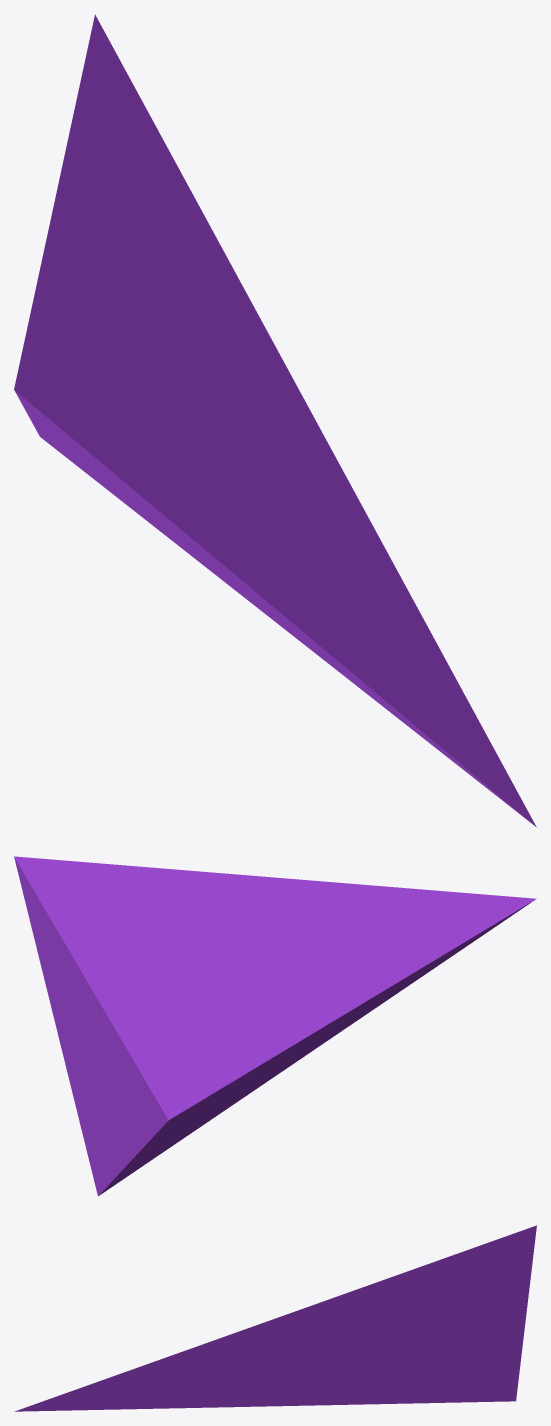
Rendered from Window_3_15_chunks.fbx.
3 renders of one model, top to bottom at view 1: azimuth 30°, elevation 25°; view 2: azimuth 150°, elevation 25°; view 3: azimuth 270°, elevation 25°, orthographic. The views are drawn at different scales.
Visible parts, largest first — view 1: Window_3_15_0; view 2: Window_3_15_0; view 3: Window_3_15_0.
Part boxes in pixels (left/top/right/bottom): Window_3_15_0: left=14, top=14, right=536, bottom=827; Window_3_15_0: left=14, top=856, right=536, bottom=1196; Window_3_15_0: left=15, top=1225, right=536, bottom=1411.
Size of the model in its own units: 23.43 by 71.06 by 163.
